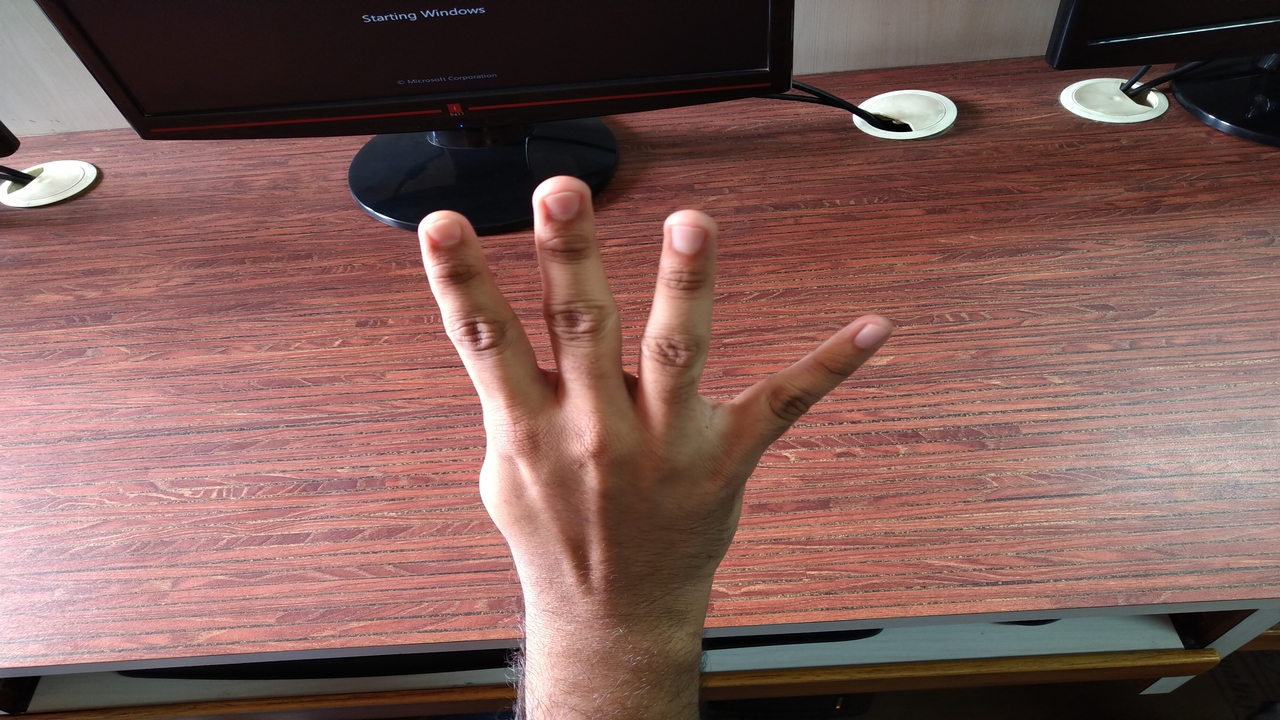fingertip: (522, 168, 596, 236), (414, 202, 478, 268), (656, 198, 720, 264), (834, 306, 900, 358)
